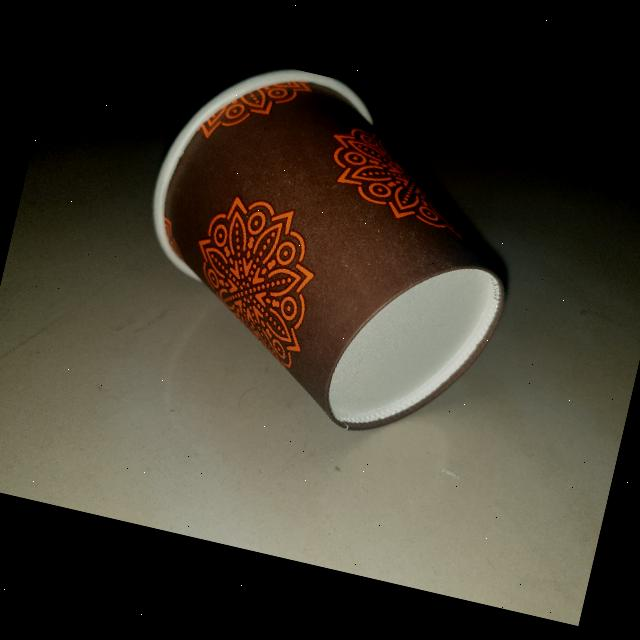trash: (108, 42, 552, 461)
